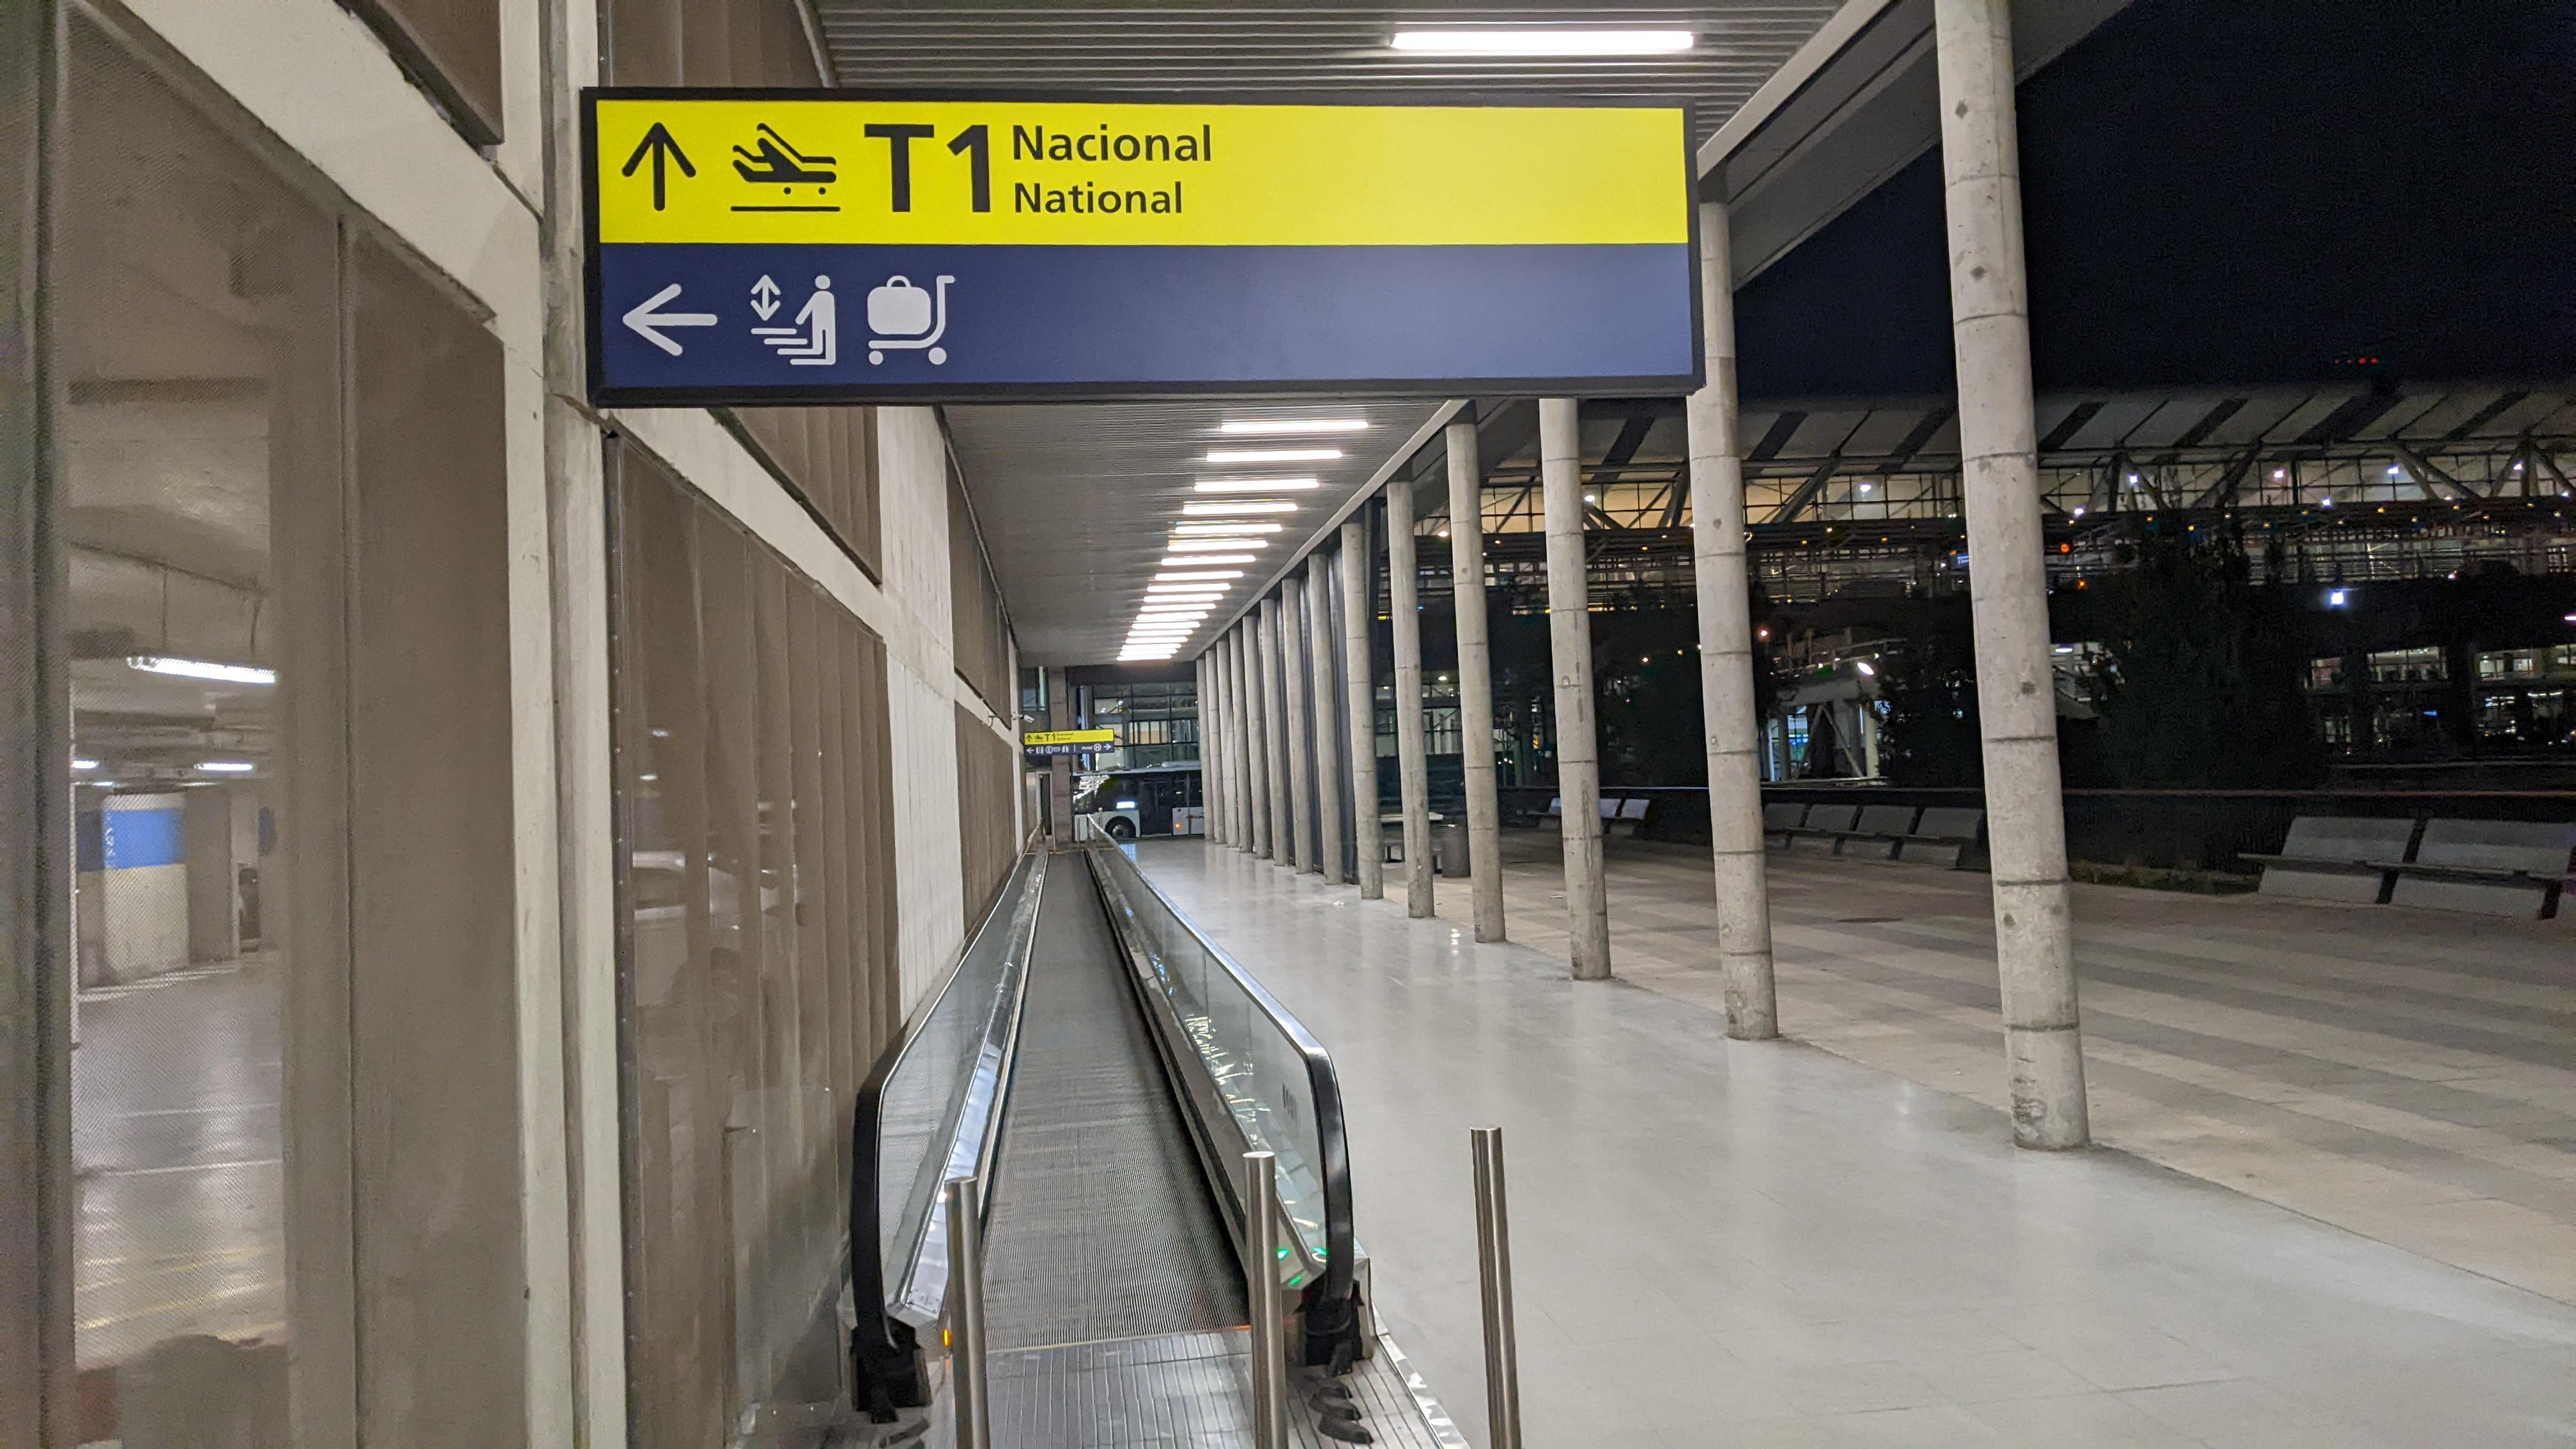airplane symbol: (733, 135, 843, 188)
baggage claim: (865, 273, 933, 337)
thin left arrow: (617, 280, 722, 358)
thin up arrow: (618, 121, 700, 217)
